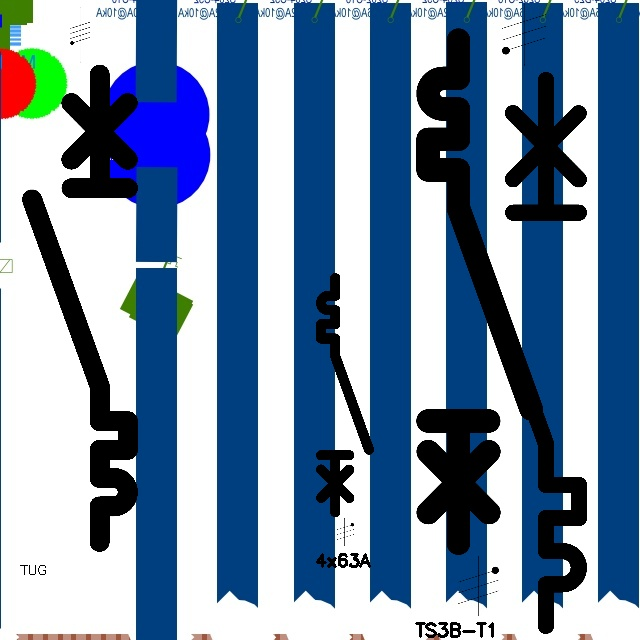interruptor_termomagnetico: (453, 65, 593, 639), (415, 27, 544, 556), (20, 62, 140, 554), (315, 272, 375, 518)
